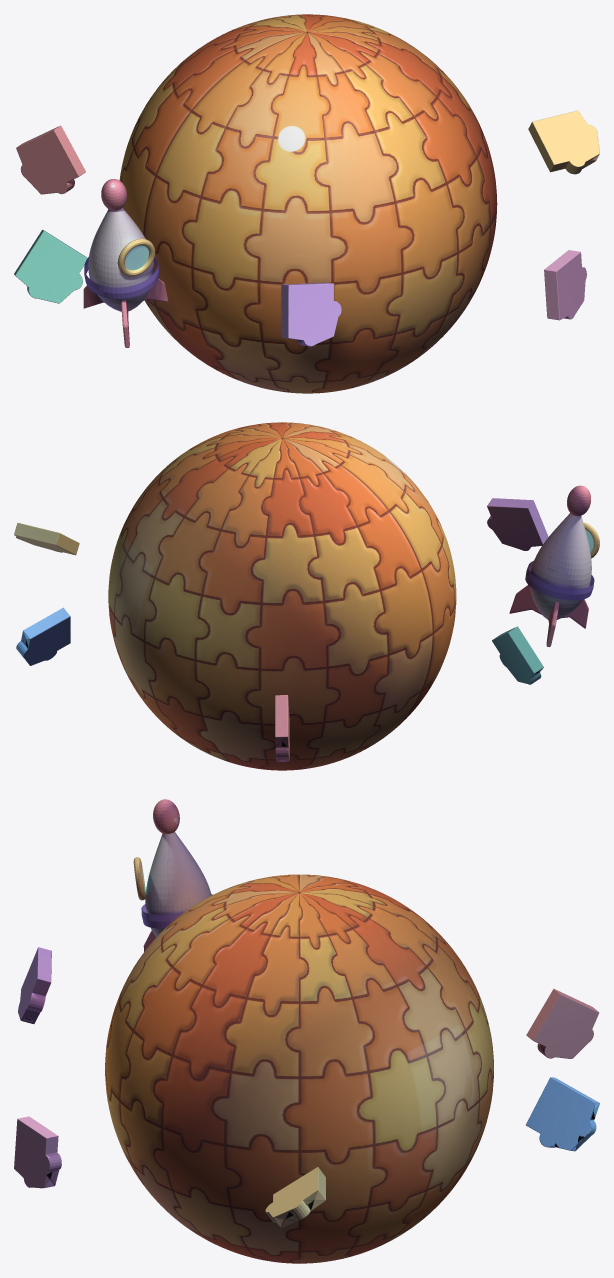
File: puzzle_planet.glb
3 renders of one model, top to bottom at view 1: azimuth 30°, elevation 25°; view 2: azimuth 150°, elevation 25°; view 3: azimuth 270°, elevation 25°, orthographic. The views are drawn at different scales.
Visible parts, largest first — view 1: planet_play, pieces, rocket; view 2: planet_play, pieces, rocket; view 3: planet_play, pieces, rocket.
Part boxes in pixels (x1,y1,x2,y2): planet_play: [119, 14, 497, 393]; pieces: [14, 110, 599, 346]; rocket: [83, 179, 168, 347]; planet_play: [108, 422, 456, 770]; pieces: [14, 498, 548, 761]; rocket: [509, 485, 599, 646]; planet_play: [105, 874, 493, 1263]; pieces: [14, 947, 599, 1228]; rocket: [133, 799, 212, 951].
Bounding box in the file's own units: 11.23 × 6.4 × 9.64.
Materials: 3 (3 with a texture image).
